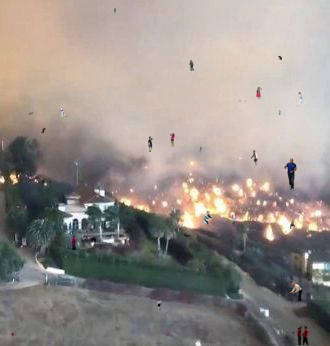Human: (203, 211, 235, 228), (148, 132, 175, 152), (283, 325, 309, 345), (284, 158, 297, 192), (71, 234, 97, 250), (289, 282, 303, 301), (141, 299, 162, 310), (251, 150, 258, 166), (297, 92, 303, 107), (59, 108, 67, 118), (256, 87, 262, 99), (41, 177, 51, 183), (17, 205, 27, 211), (189, 60, 194, 71), (290, 220, 295, 229), (182, 232, 191, 237), (199, 147, 205, 153), (41, 127, 46, 133), (98, 182, 100, 190), (278, 56, 282, 60), (11, 332, 14, 337), (239, 100, 246, 102), (129, 53, 132, 57), (114, 8, 116, 14), (29, 112, 33, 115), (45, 195, 47, 200), (279, 110, 281, 115), (231, 255, 233, 260)
